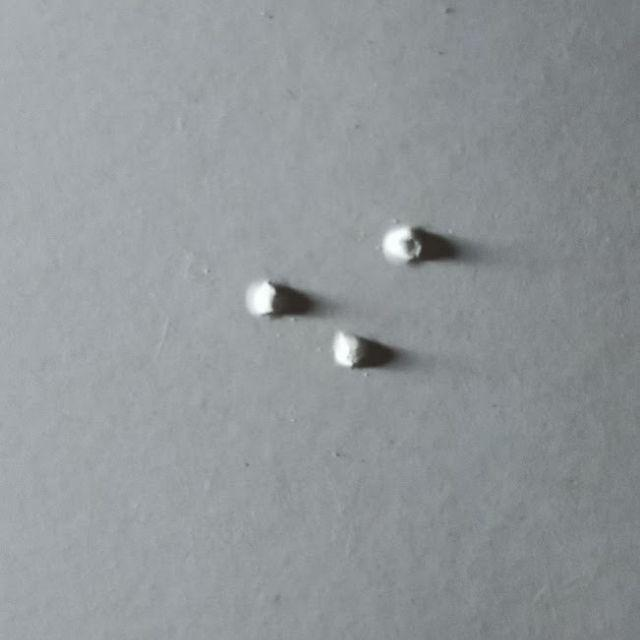dot_5: (190, 226, 292, 369)
sinta: (333, 225, 435, 368)
